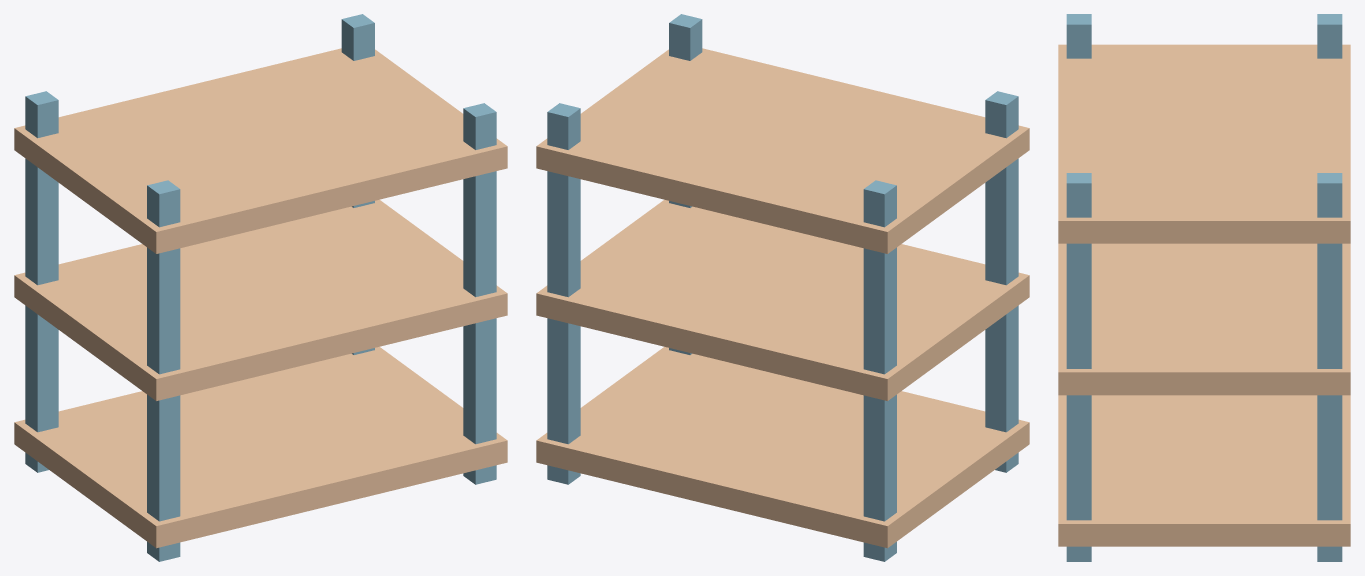
The model's file is pallet_rack.glb.
3 renders of one model, left to right at view 1: azimuth 30°, elevation 25°; view 2: azimuth 150°, elevation 25°; view 3: azimuth 270°, elevation 25°, orthographic. The views are drawn at different scales.
Size of the model in its own units: 1 by 1 by 0.7.
